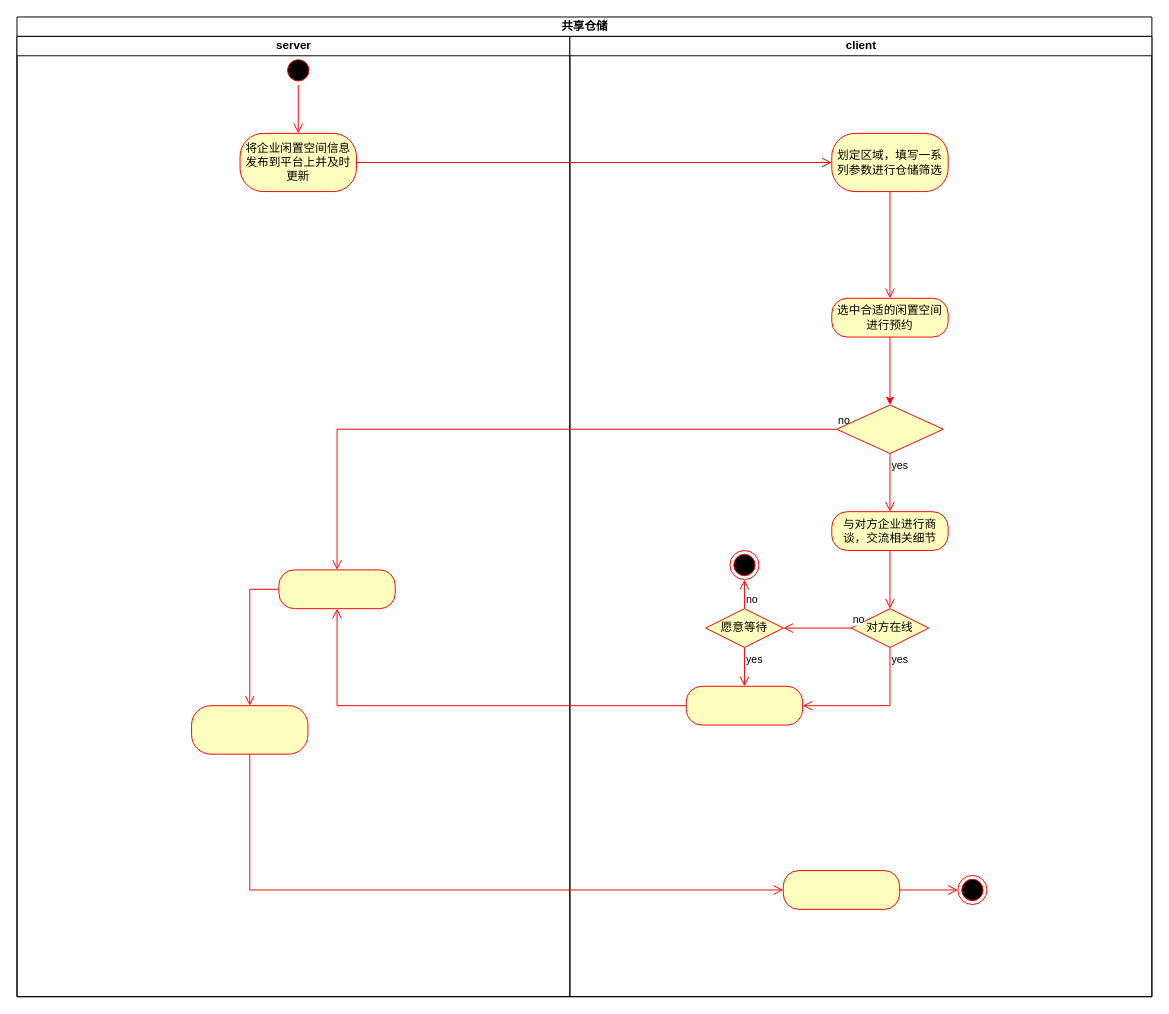
Image size: 1169x1014. Some labels were removed from this diagram. The box of each missing label's shape, as (x1, y1, x2, y2) in pixels:
【对方上线后】商讨相关细节: (685, 685, 803, 725)
到期后系统给双方企业发送系统通知和邮件提醒: (191, 705, 308, 754)
双方签订协议: (278, 569, 395, 609)
有其他疑问: (836, 404, 943, 453)
给对方服务打分: (782, 870, 900, 909)
